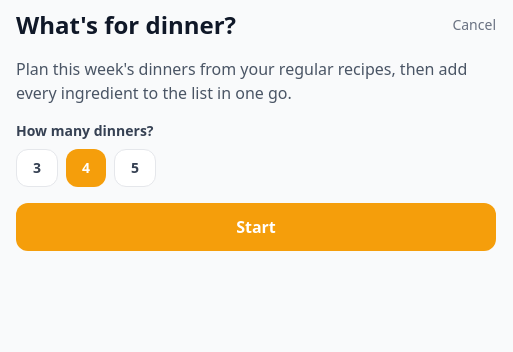
Test case: suggestions › does not immediately re-offer a recipe just swapped out
Step 1. Click the button "Start" → (256, 227), box [16,203,496,251]
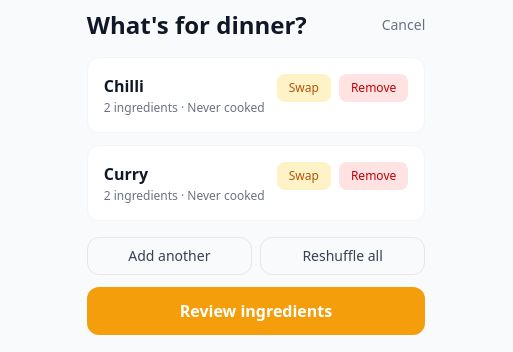
Now the heading "Chilli" is shown, box [104,75,144,97]
Step 2. Click the button "Swap" in the row of "Chilli" → (304, 88), box [277,74,331,102]
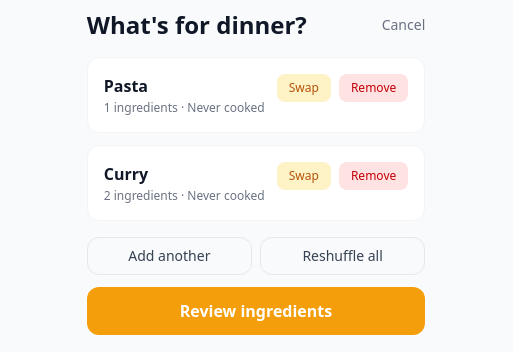
Now the heading "Pasta" is shown, box [104,75,148,97]
Step 3. Click the button "Swap" in the row of "Pasta" → (304, 88), box [277,74,331,102]
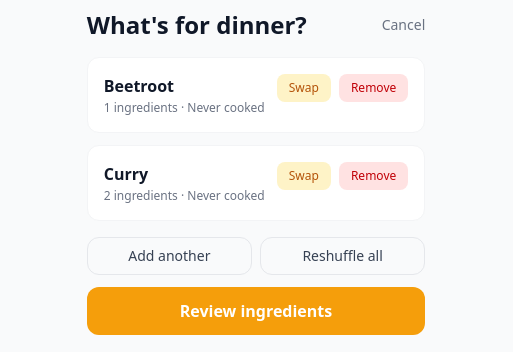
Now the heading "Pasta" is gone
Now the heading "Beetroot" is shown, box [104,75,174,97]
